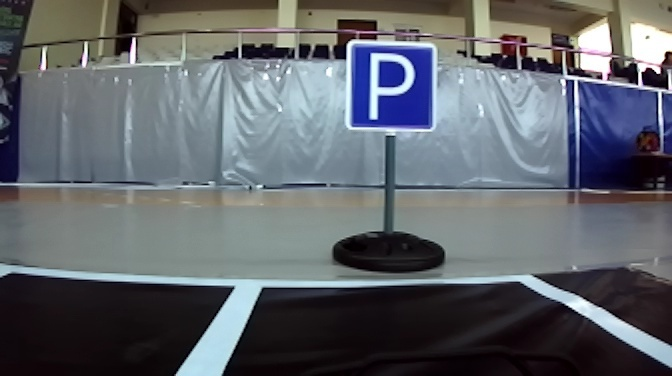park: (344, 36, 437, 135)
